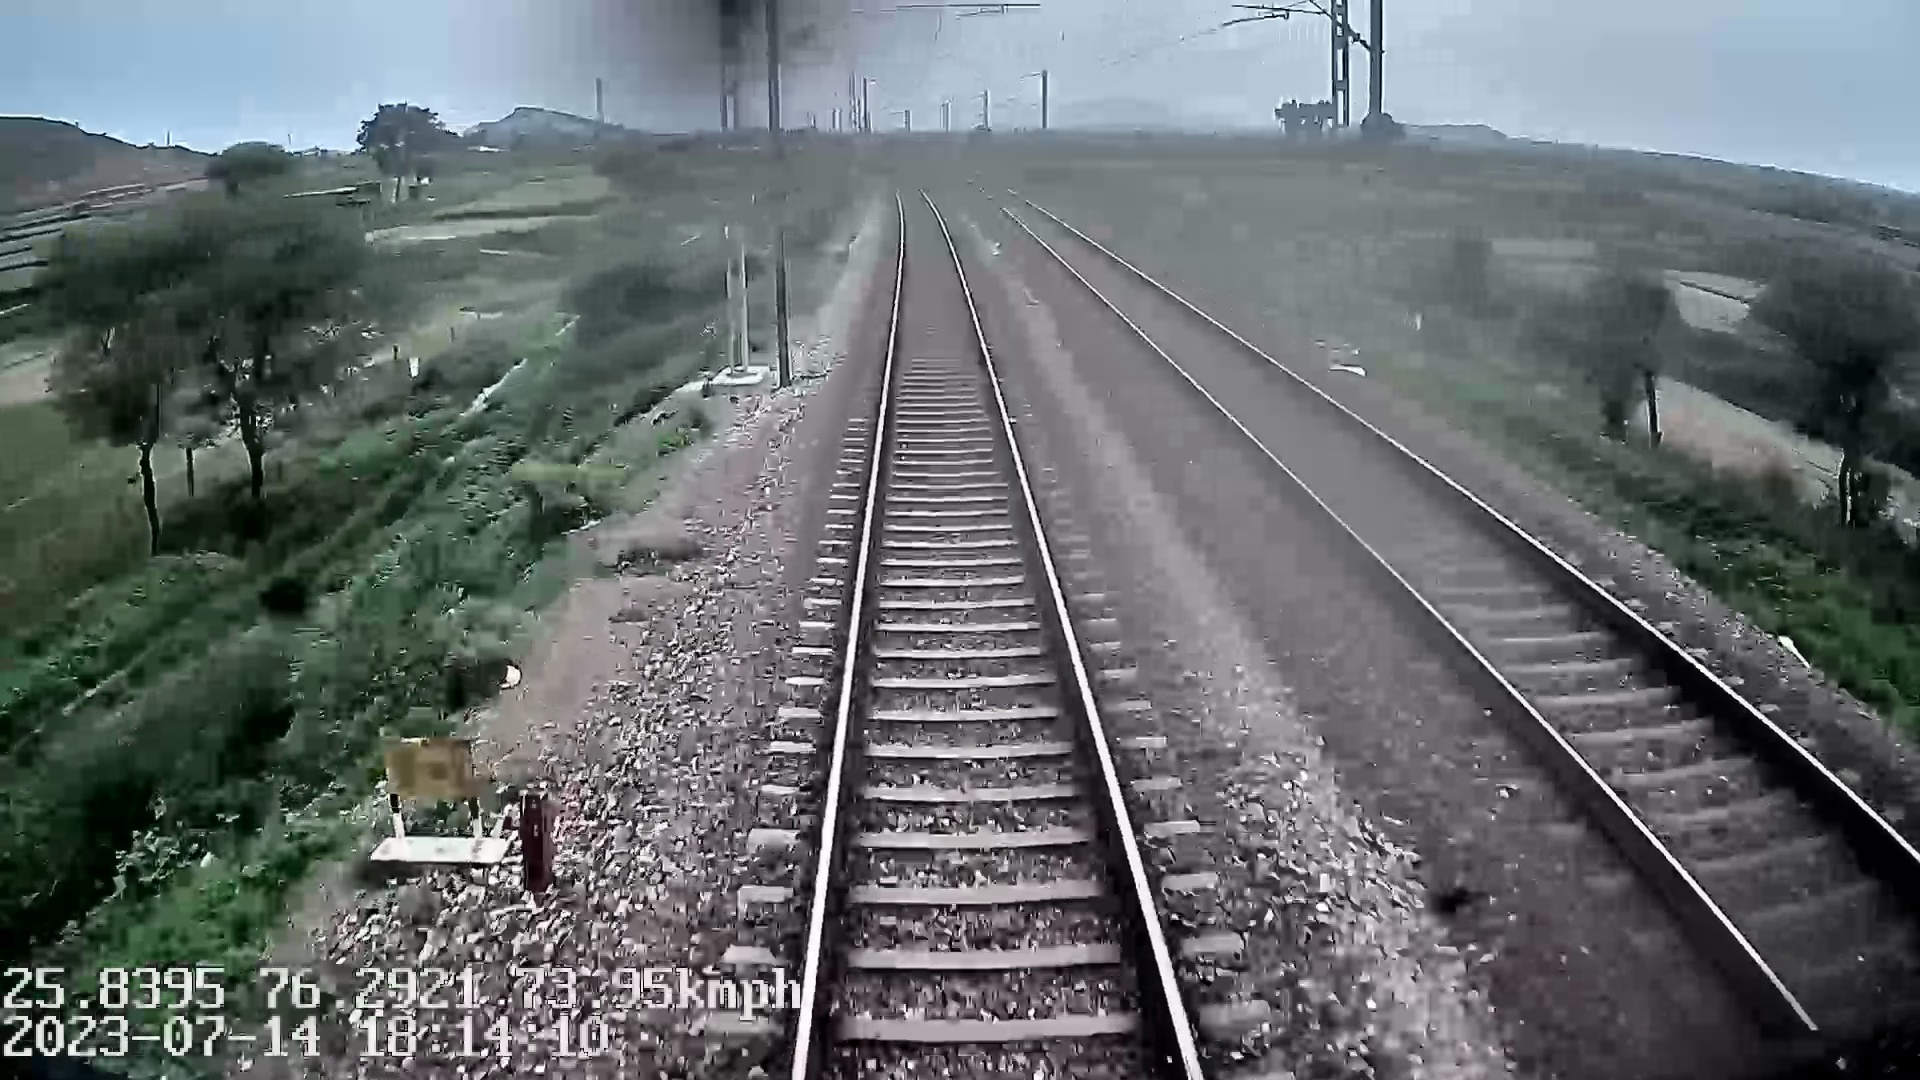track1: (800, 189, 1196, 1072)
track2: (998, 203, 1919, 1021)
